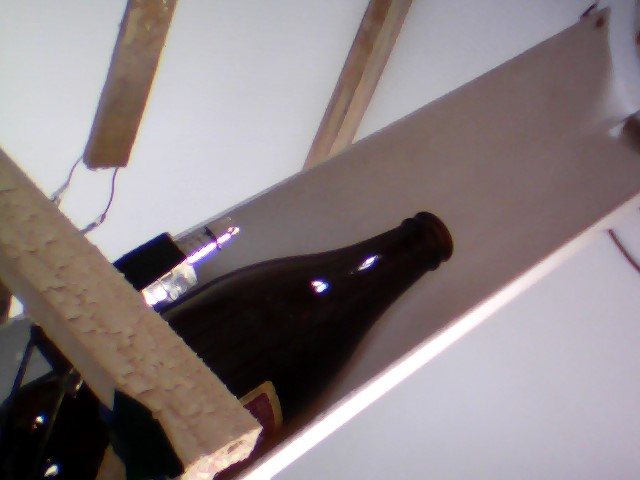vidrio: (180, 207, 467, 446)
